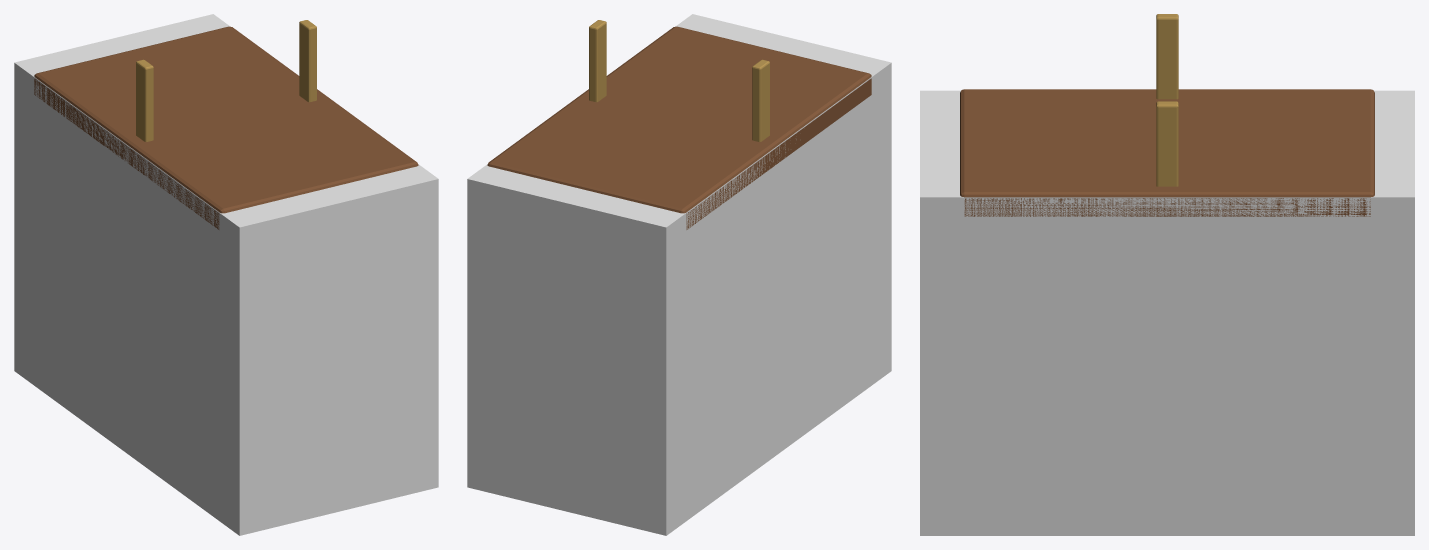
Rendered from golf-cart_luxury.glb.
The picture shows the model from 3 angles, left to right: view 1: azimuth 30°, elevation 25°; view 2: azimuth 150°, elevation 25°; view 3: azimuth 270°, elevation 25°; orthographic projection. The views are drawn at different scales.
Visible parts, largest first — view 1: COL_golf-cart, MESH_Canopy, MESH_RoofPost, MESH_RoofPost.001; view 2: COL_golf-cart, MESH_Canopy, MESH_RoofPost, MESH_RoofPost.001; view 3: COL_golf-cart, MESH_Canopy, MESH_RoofPost.001, MESH_RoofPost.
Boxes of the visible parts, left/top/right/bottom form: COL_golf-cart: left=14, top=14, right=438, bottom=535; MESH_Canopy: left=34, top=26, right=418, bottom=229; MESH_RoofPost: left=136, top=59, right=153, bottom=141; MESH_RoofPost.001: left=299, top=20, right=316, bottom=102; COL_golf-cart: left=467, top=14, right=891, bottom=535; MESH_Canopy: left=487, top=26, right=871, bottom=229; MESH_RoofPost: left=752, top=59, right=769, bottom=141; MESH_RoofPost.001: left=589, top=20, right=606, bottom=102; COL_golf-cart: left=920, top=90, right=1414, bottom=535; MESH_Canopy: left=960, top=89, right=1374, bottom=216; MESH_RoofPost.001: left=1156, top=101, right=1178, bottom=186; MESH_RoofPost: left=1156, top=14, right=1178, bottom=99.
Bounding box in the file's own units: 1.25 × 2.31 × 2.45.
